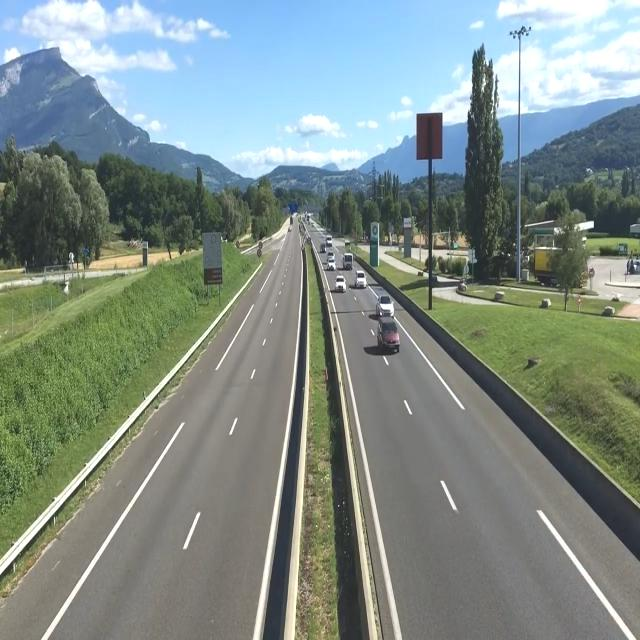Car: (377, 318, 401, 352), (376, 295, 394, 317), (351, 270, 370, 290), (335, 275, 346, 292), (326, 259, 336, 271), (326, 251, 335, 262), (319, 244, 326, 254), (326, 236, 332, 246), (310, 222, 316, 230), (319, 233, 324, 240)
Truck: (343, 252, 354, 268)
